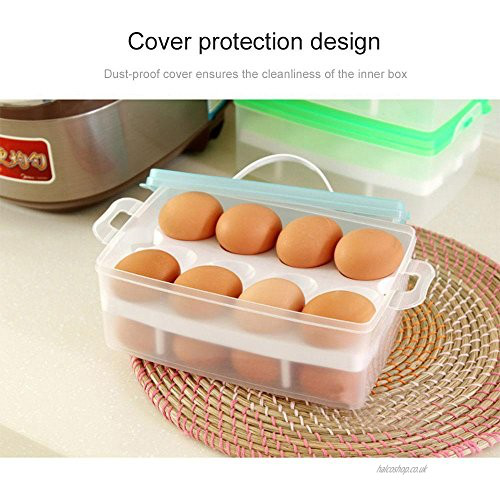egg: (110, 193, 405, 353)
